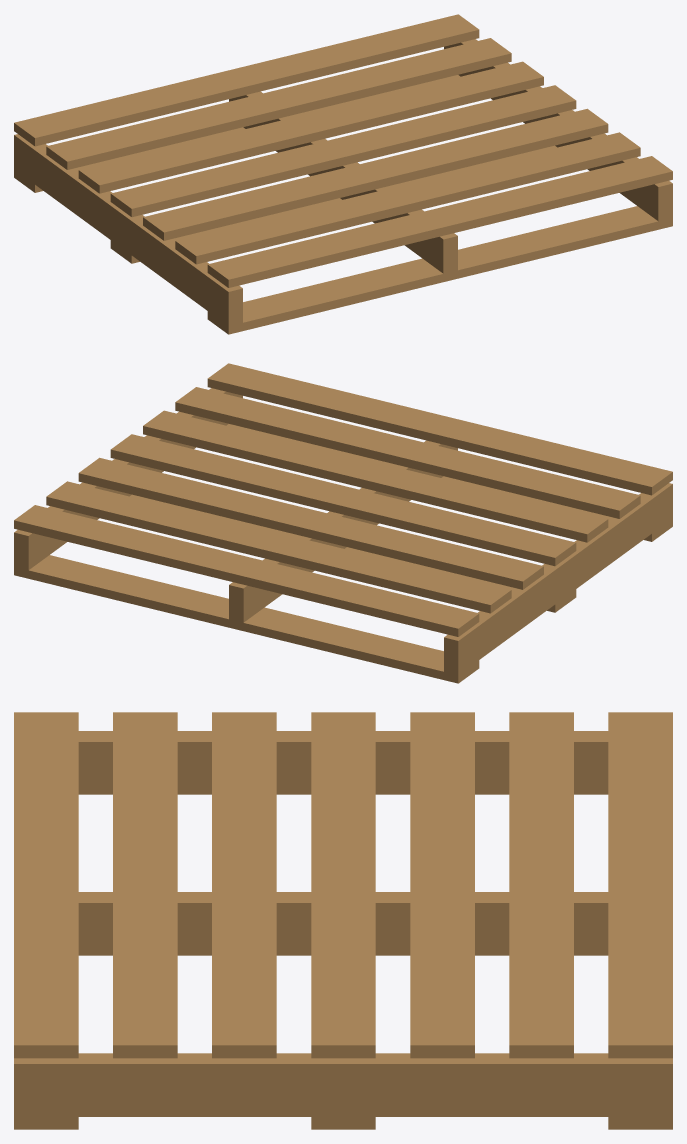
The model's file is plant.store.pallet_stringer.glb.
The picture shows the model from 3 angles, top to bottom: view 1: azimuth 30°, elevation 25°; view 2: azimuth 150°, elevation 25°; view 3: azimuth 270°, elevation 25°; orthographic projection. The views are drawn at different scales.
Parts seen in each view (by area): view 1: main__softwood; view 2: main__softwood; view 3: main__softwood.
Boxes of the visible parts, x1=… form: main__softwood: x1=14, y1=14, x2=672, y2=334; main__softwood: x1=14, y1=363, x2=672, y2=683; main__softwood: x1=14, y1=712, x2=672, y2=1129.
Size of the model in its own units: 1.22 by 0.144 by 1.02.
